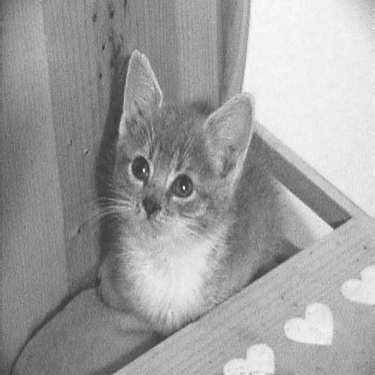cat: (15, 40, 307, 302)
